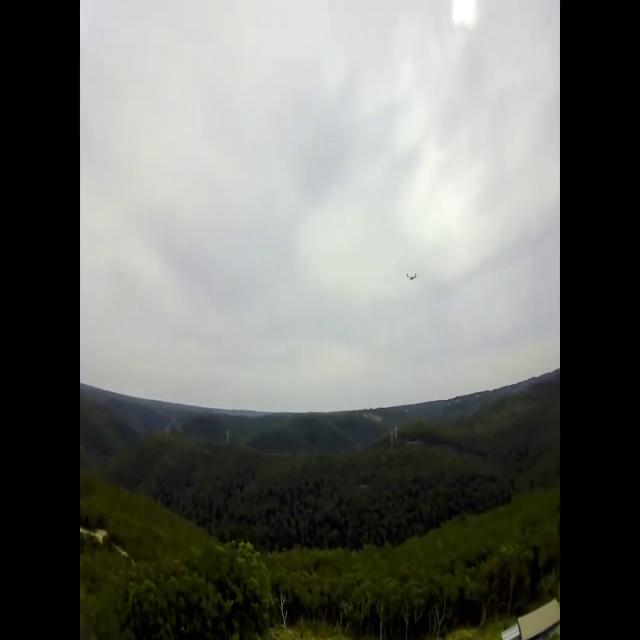iha: (409, 275, 415, 278)
